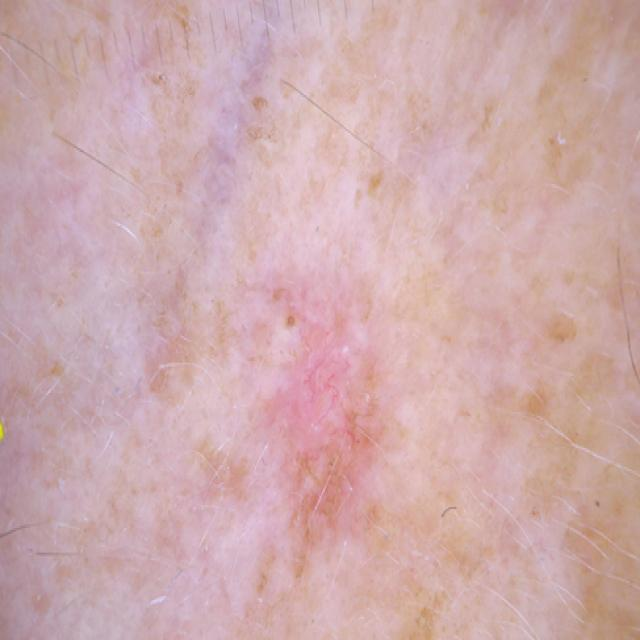Carcinoma: (199, 266, 488, 634)
